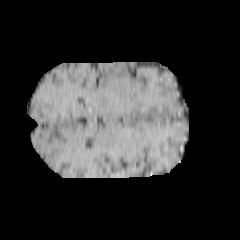glioma: (82, 76, 165, 129)
